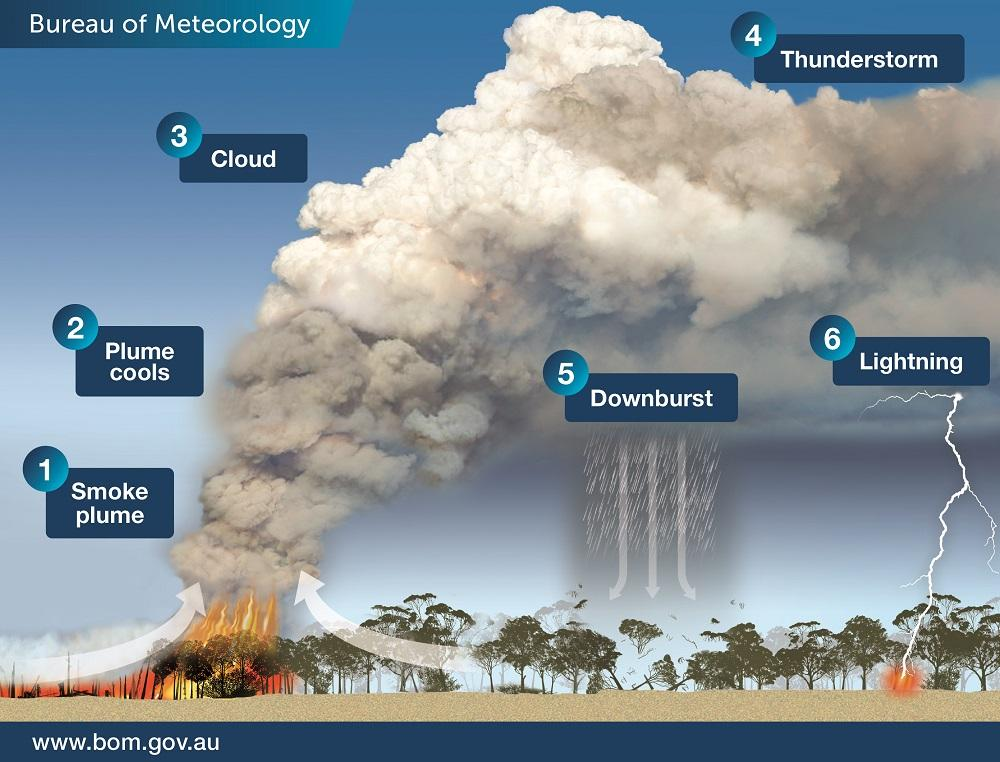fire: (189, 595, 284, 642)
smoke: (214, 211, 539, 583), (357, 12, 719, 340), (721, 92, 999, 309)
